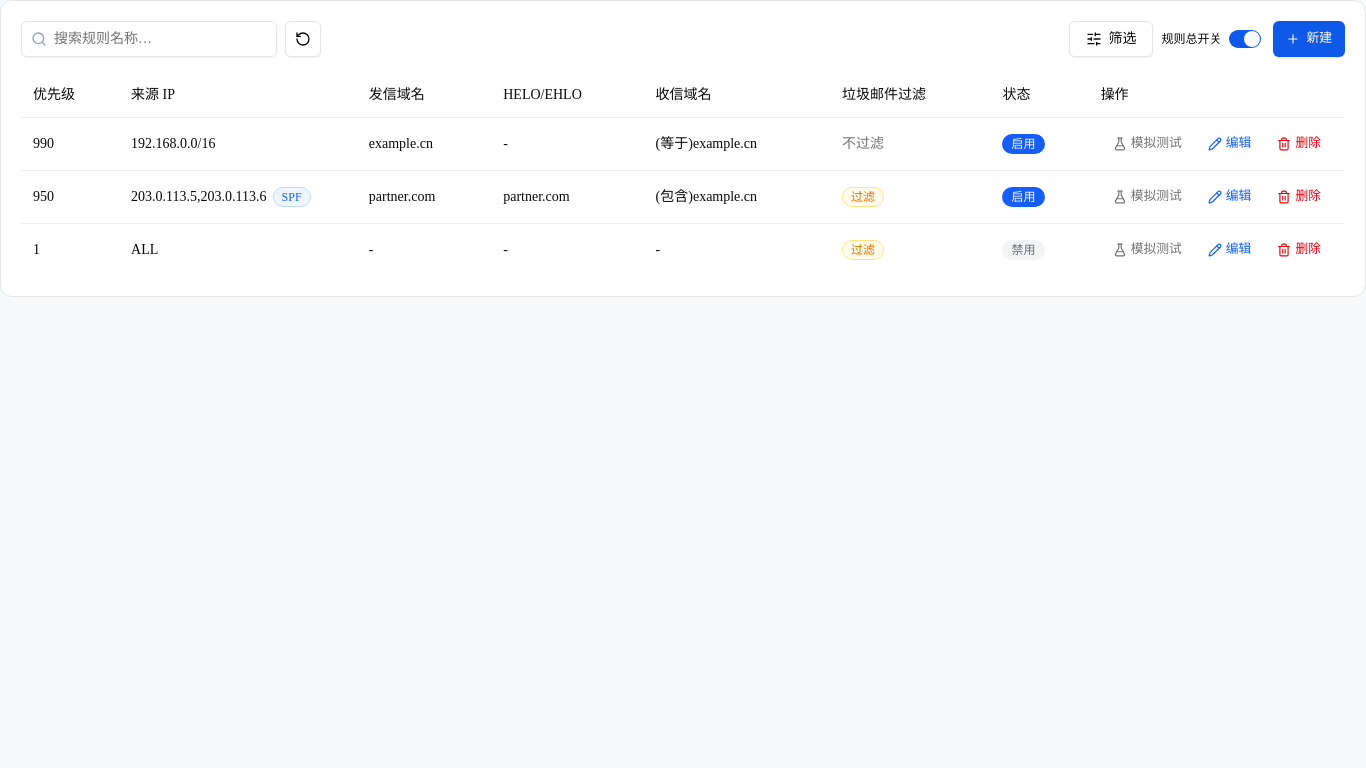
Test: RelayTab › priority/HELO/收信域名匹配方式 controls are always editable (real backend columns, not mock-only)
The image size is (1366, 768).
Click the button with test id "mr-relay-create" at point(1309, 39), box [1273,21,1345,57]
(page scrolled)
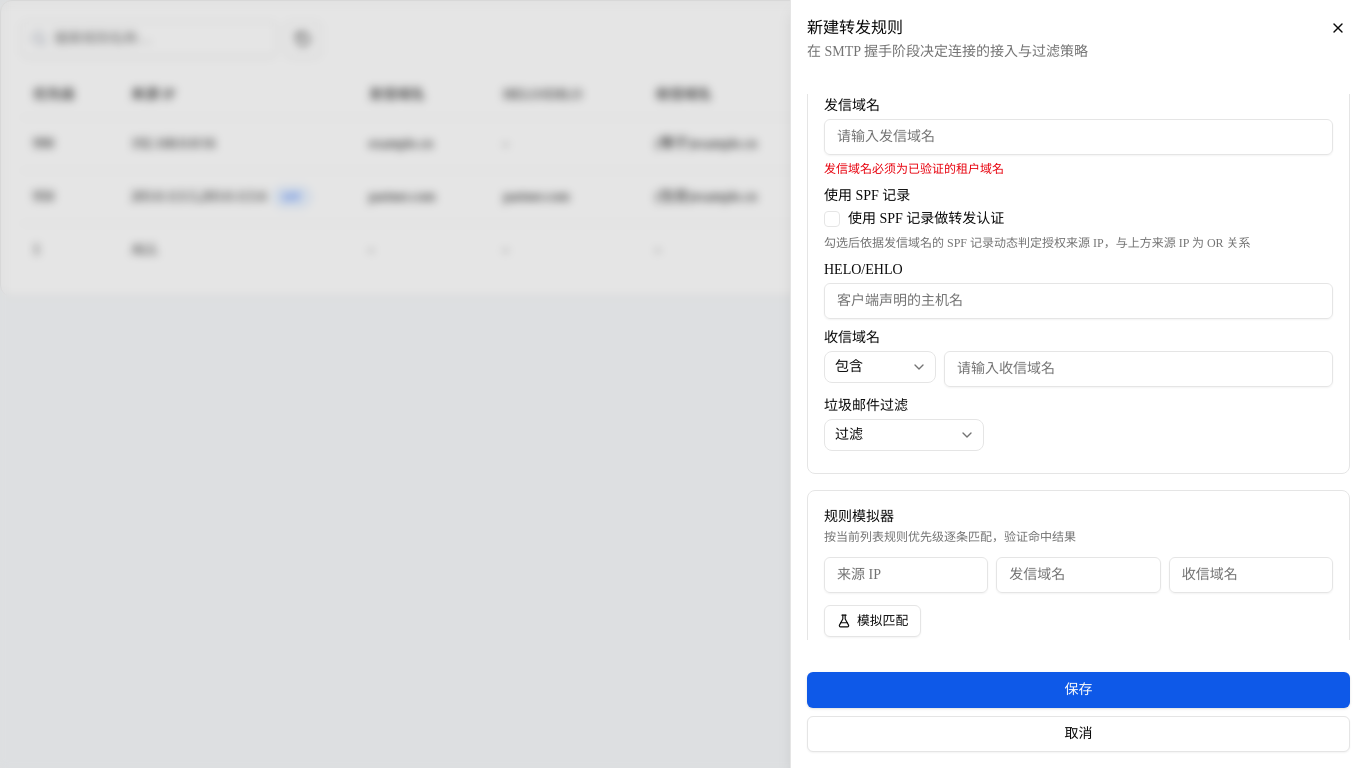
Result: the dialog with test id "mr-relay-drawer" is shown at [790,0,1365,767]
Result: the field with test id "mr-relay-helo-input" is enabled at [824,283,1333,319]
Result: the field with test id "mr-relay-rcpt-domain-input" is enabled at [944,351,1333,387]
